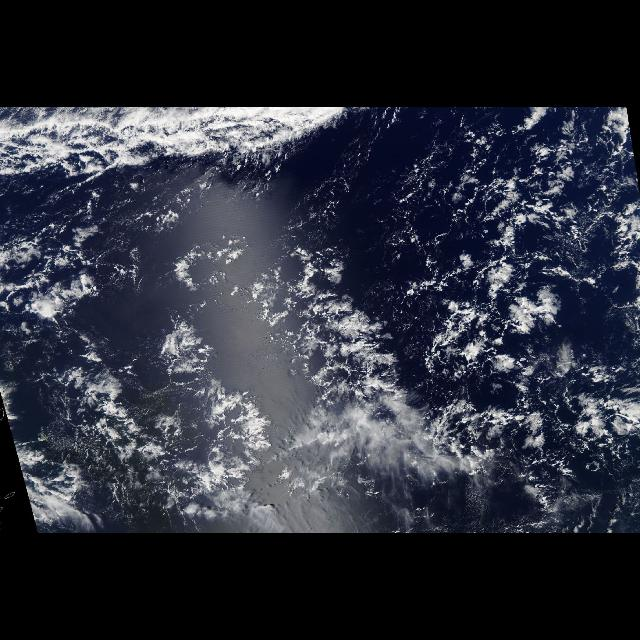Fish: (59, 240, 638, 518), (1, 108, 353, 178)
Gravel: (418, 108, 640, 386)
